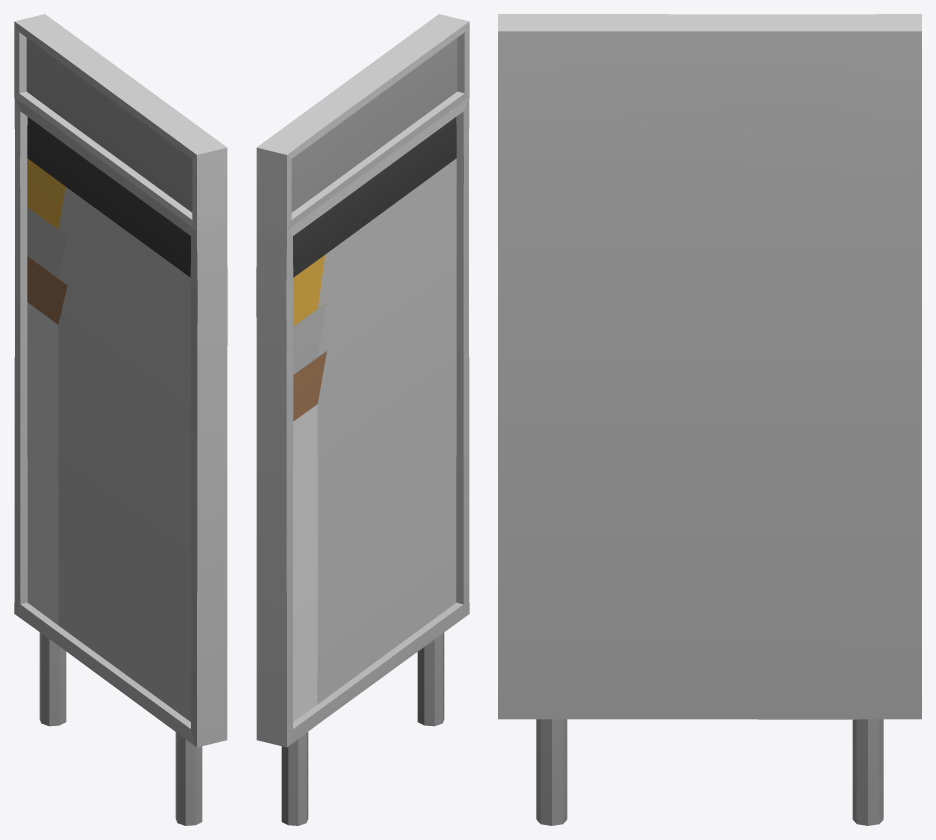
Rendered from LeaderBoard.fbx.
The picture shows the model from 3 angles, left to right: view 1: azimuth 30°, elevation 25°; view 2: azimuth 150°, elevation 25°; view 3: azimuth 270°, elevation 25°; orthographic projection. The views are drawn at different scales.
Visible parts, largest first — view 1: Plane.033; view 2: Plane.033; view 3: Plane.033.
Boxes of the visible parts, x1,y1,x2,y2 form: Plane.033: (14, 14, 227, 825); Plane.033: (256, 14, 469, 825); Plane.033: (498, 14, 921, 825).
Bounding box in the file's own units: 26.56 × 563 × 271.
